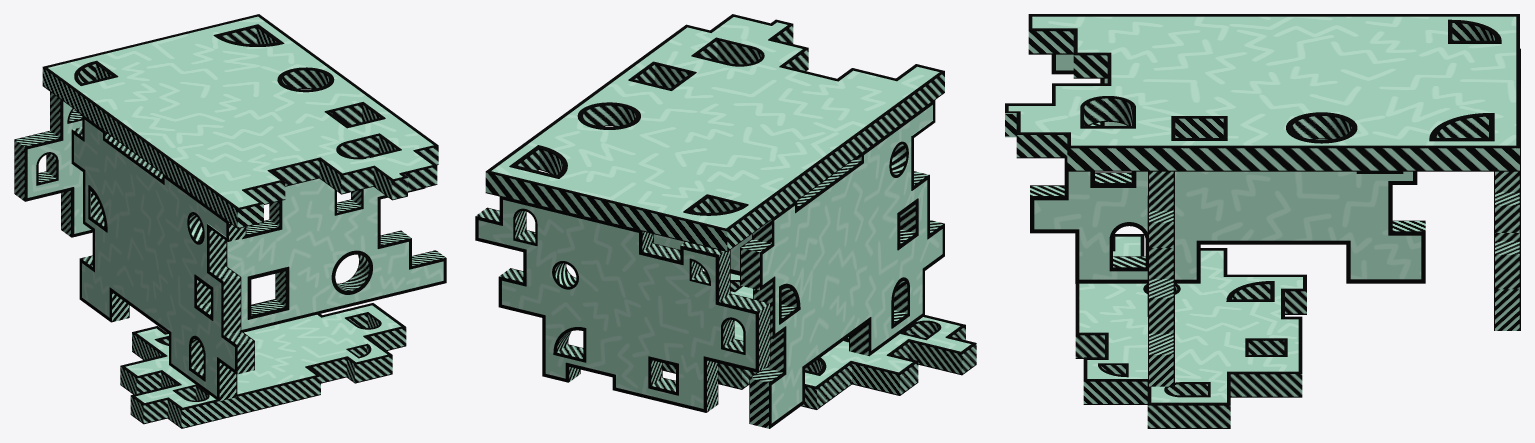
The model's file is block02.glb.
3 views of the same model, side by side, from view 1: azimuth 30°, elevation 25°; view 2: azimuth 150°, elevation 25°; view 3: azimuth 270°, elevation 25° (orthographic). The views are drawn at different scales.
Parts seen in each view (by area): view 1: block.001; view 2: block.001; view 3: block.001.
Part boxes in pixels (x1,y1,x2,y2): block.001: (14, 14, 446, 428); block.001: (475, 14, 976, 428); block.001: (1005, 14, 1520, 428).
Bounding box in the file's own units: 3.72 × 2.51 × 4.15.
Materials: 3 (2 with a texture image).
